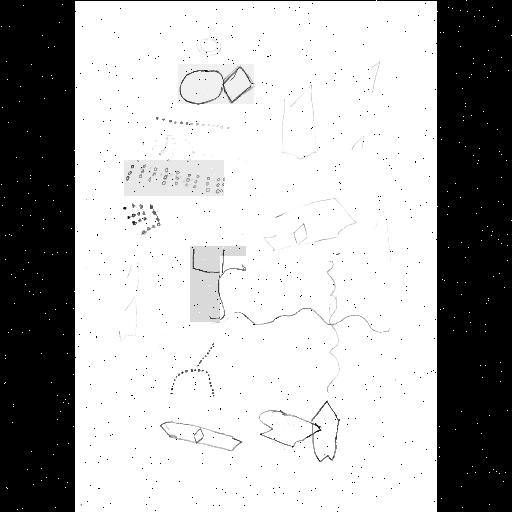shape-1: (178, 64, 254, 104)
shape-2: (152, 113, 232, 135)
shape-3: (124, 160, 224, 196)
shape-4: (120, 200, 160, 236)
shape-5: (190, 246, 246, 322)
shape-6: (170, 338, 216, 400)
shape-7: (220, 256, 390, 394)
shape-8: (260, 400, 340, 464)
shape-9: (160, 418, 240, 454)
